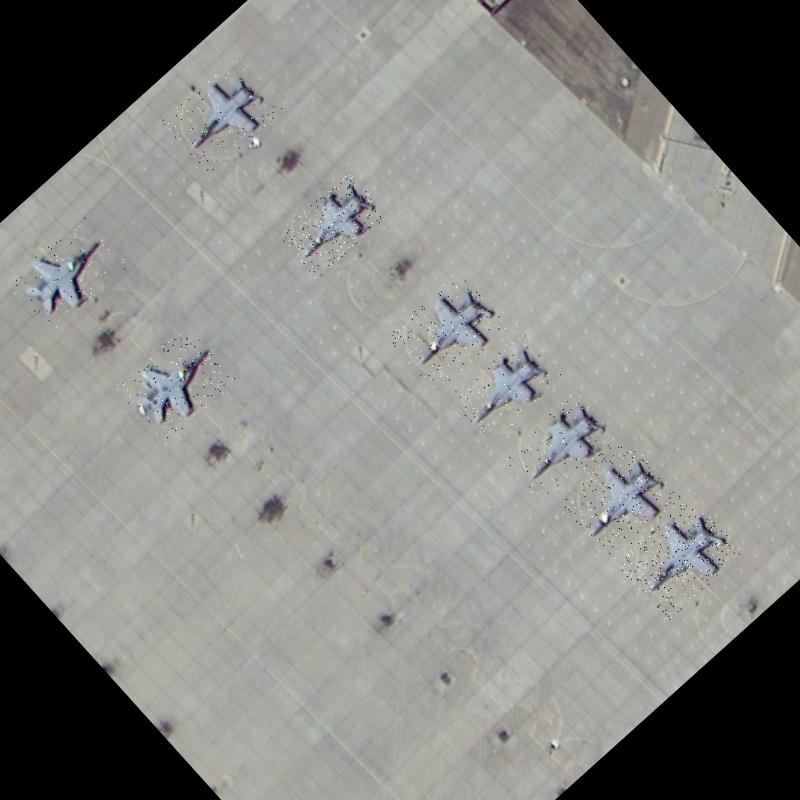A16: (554, 436, 682, 564), (615, 494, 743, 620), (4, 212, 129, 334), (113, 322, 238, 444), (385, 270, 509, 392), (161, 54, 284, 176), (443, 330, 566, 448), (502, 390, 620, 506), (277, 170, 389, 278)
